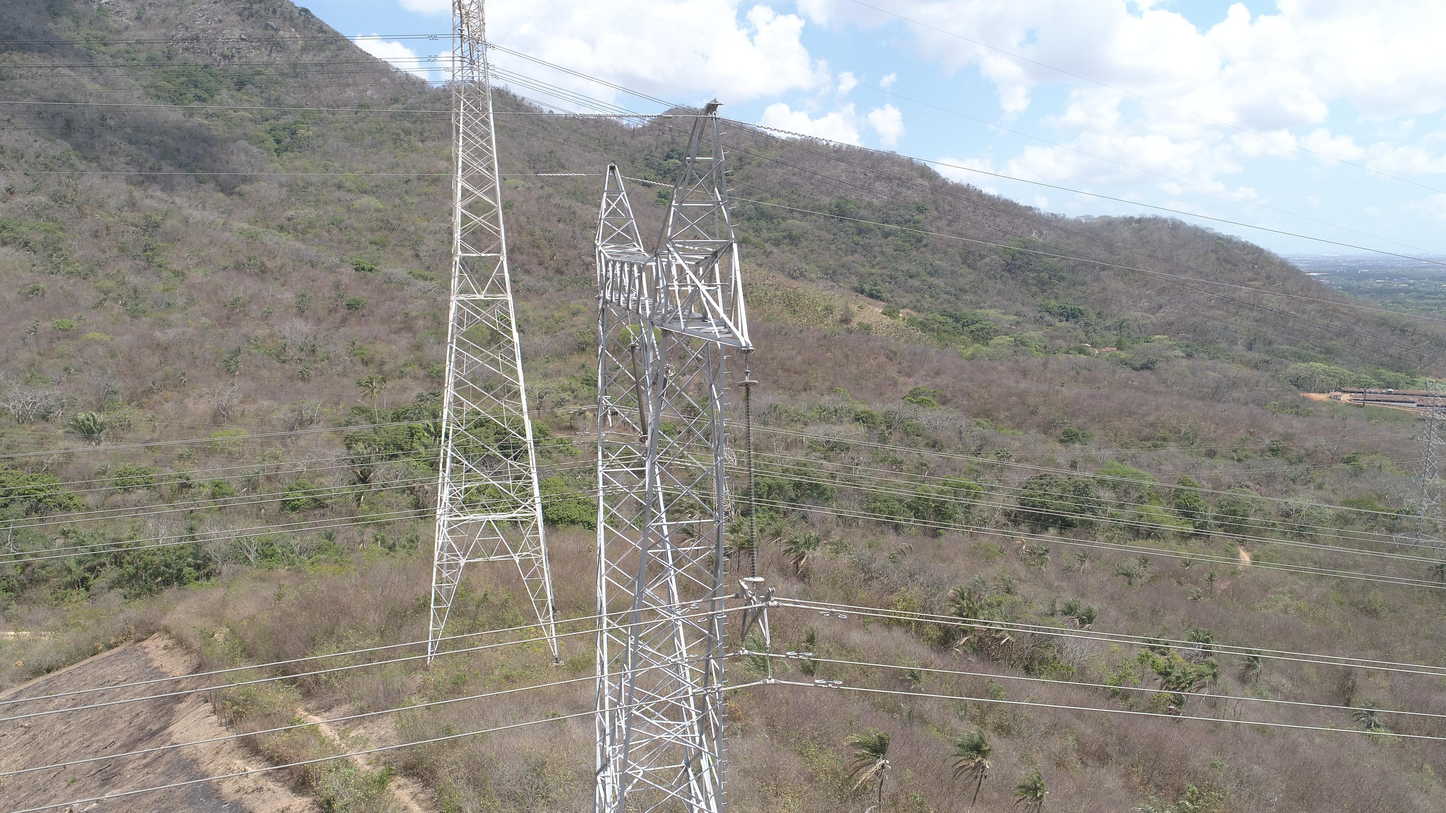power_tower: (591, 98, 774, 811), (425, 1, 560, 673), (1406, 370, 1446, 549)
